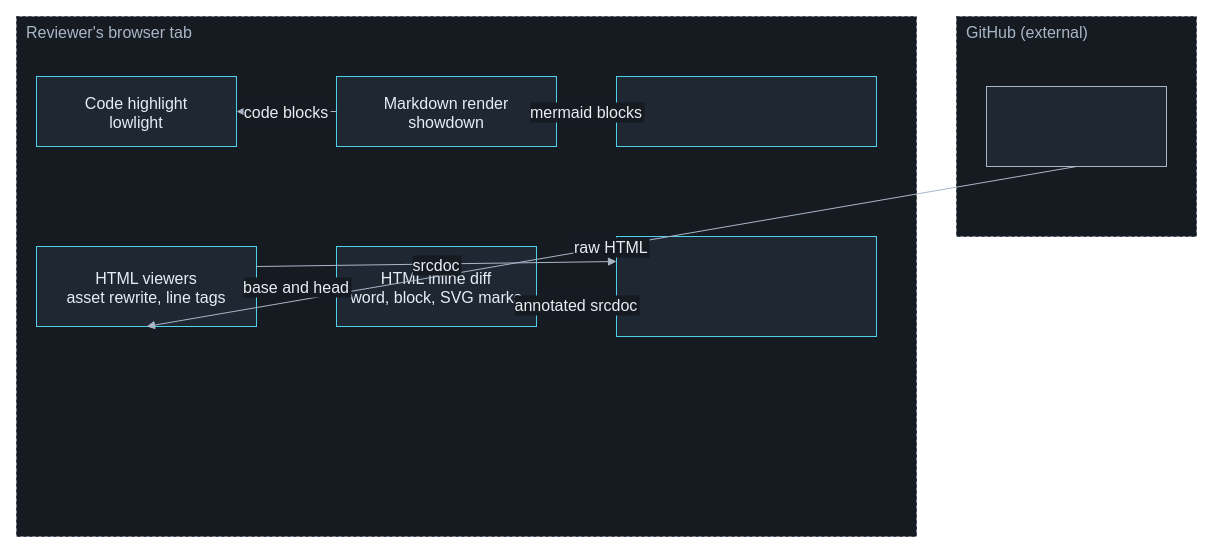
This 1213x553 diagram has some shape labels left out. The shapes that lost their labels are listed below. From the top down, each one's centre as x and y in pixels, then its label:
At point (746, 111): "Mermaid diagrams to SVG".
At point (1076, 126): "GitHub API and raw document bytes".
At point (746, 286): "Rendered HTML iframe srcdoc".
